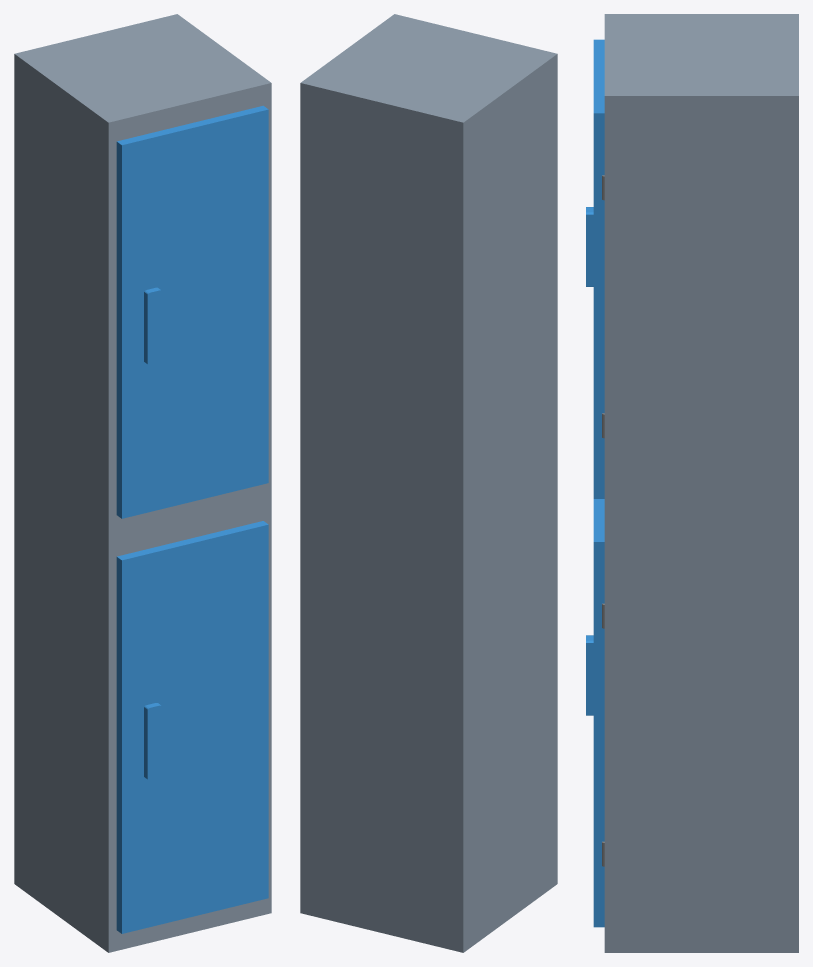
3 views of the same model, side by side, from view 1: azimuth 30°, elevation 25°; view 2: azimuth 150°, elevation 25°; view 3: azimuth 270°, elevation 25° (orthographic). The views are drawn at different scales.
Visible parts, largest first — view 1: MA-24-1x; view 2: MA-24-1x; view 3: MA-24-1x.
Part boxes in pixels (box(x1,y1,x2,y2)): MA-24-1x: box(14, 14, 271, 952); MA-24-1x: box(300, 14, 557, 952); MA-24-1x: box(586, 14, 798, 952).
Bounding box in the file's own units: 37 × 180 × 40.5.
